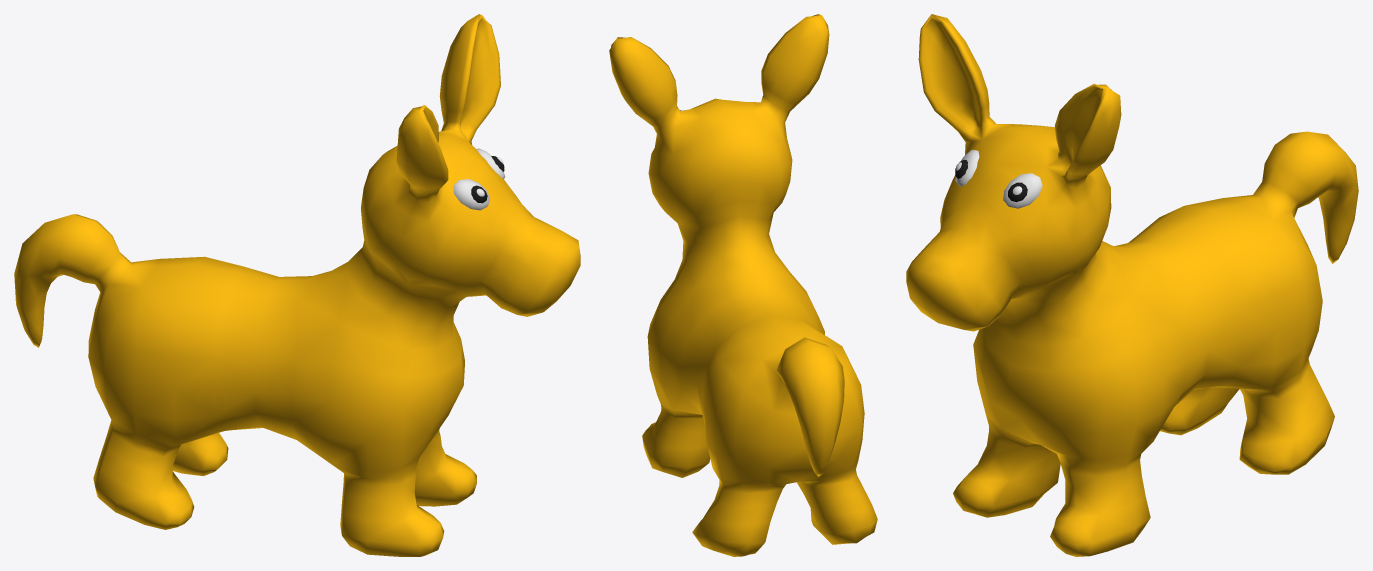
Rendered from 012-wanju05.FBX.
The picture shows the model from 3 angles, left to right: view 1: azimuth 30°, elevation 25°; view 2: azimuth 150°, elevation 25°; view 3: azimuth 270°, elevation 25°; orthographic projection. The views are drawn at different scales.
Visible parts, largest first — view 1: 012-wanju05; view 2: 012-wanju05; view 3: 012-wanju05.
Part boxes in pixels (x1,y1,x2,y2): 012-wanju05: [14, 14, 580, 556]; 012-wanju05: [609, 14, 877, 556]; 012-wanju05: [906, 14, 1358, 556].
Bounding box in the file's own units: 57.3 × 67.97 × 56.96.
